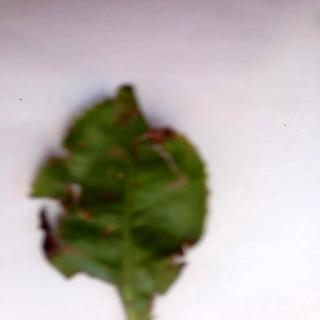Algal Leaf: (31, 85, 210, 320)
